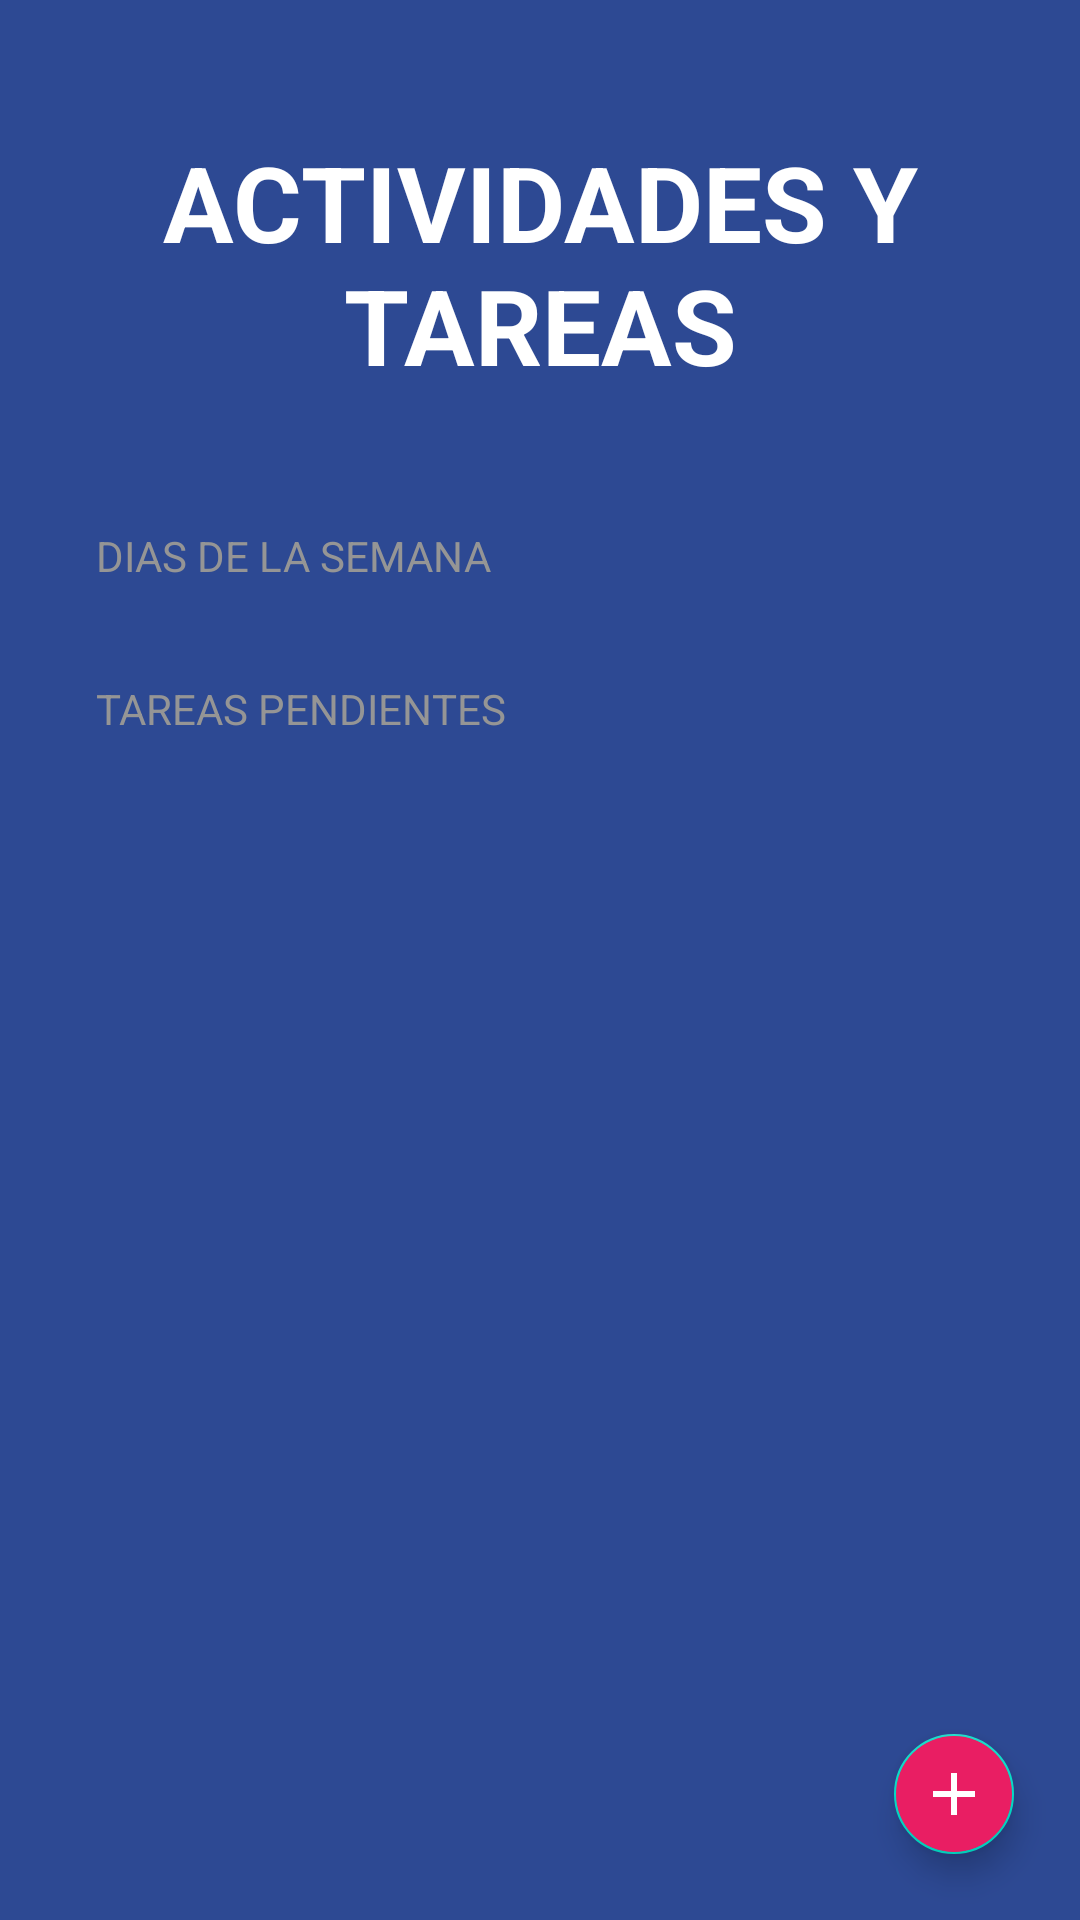

Where to tap for icons on this 1080px x 1920px app screen, as point (x, y):
plus: point (954, 1796)
